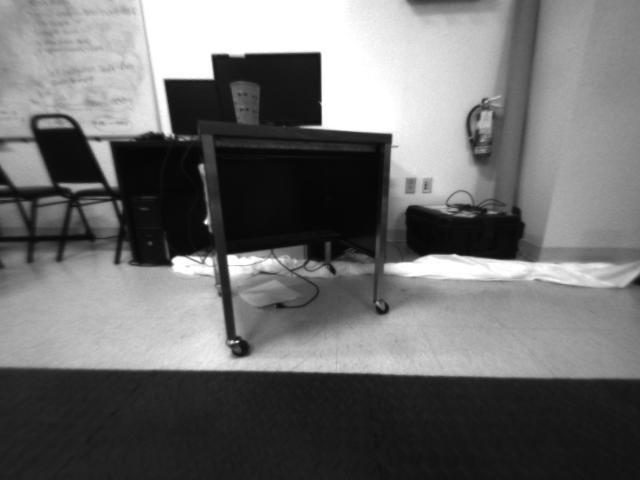coffee_cup: (227, 80, 265, 126)
